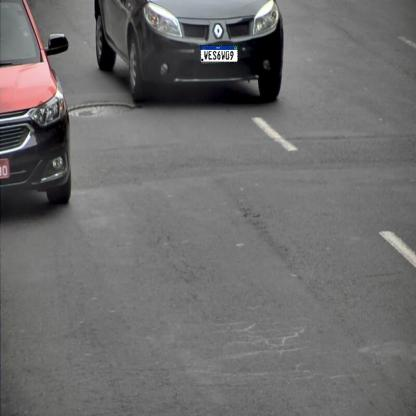PlacaM: (200, 45, 238, 62)
